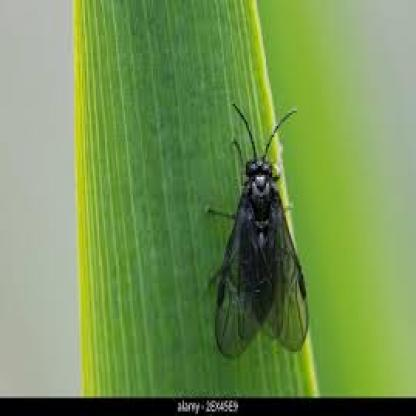sawfly: (191, 101, 319, 362)
